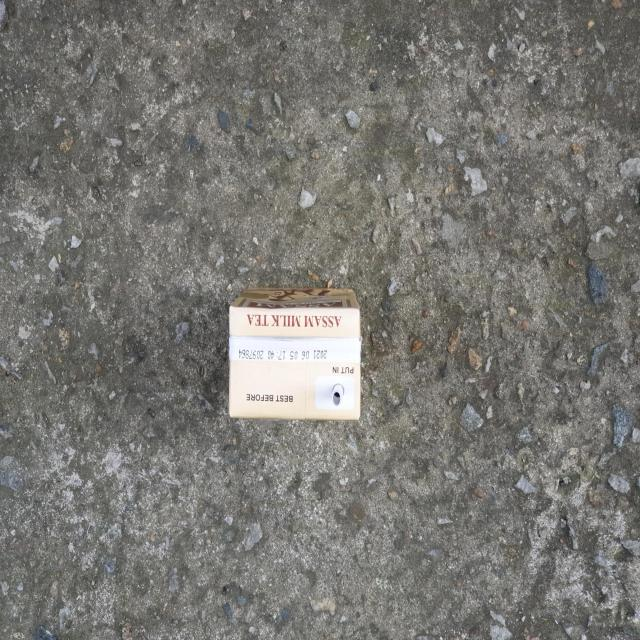paperpack: (229, 288, 361, 420)
